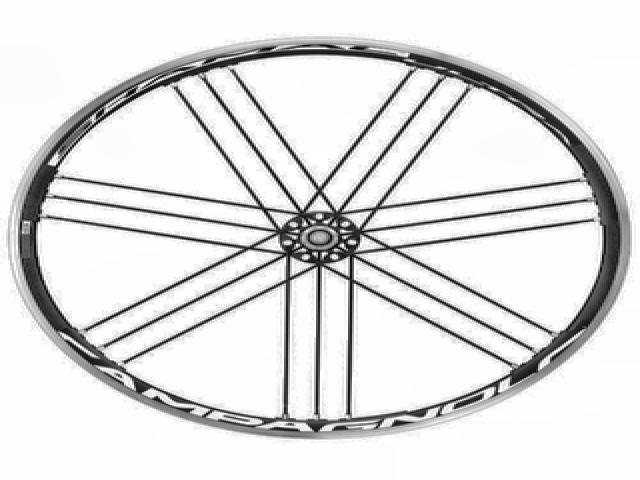wheel: (6, 33, 631, 442)
